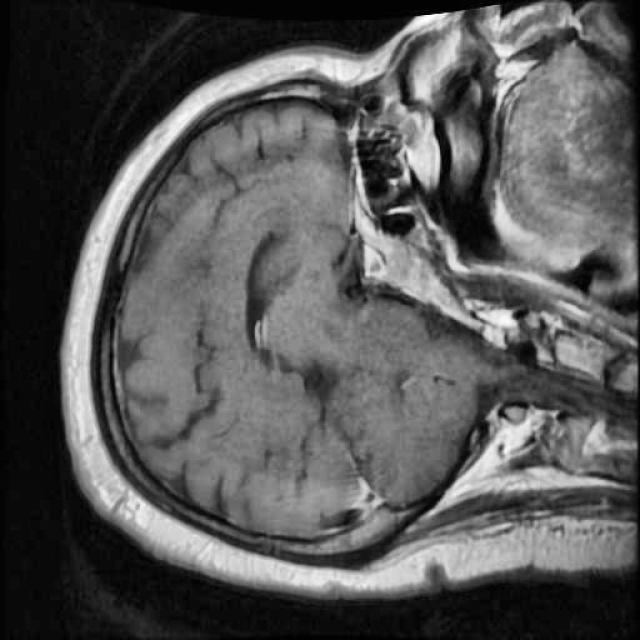Tumor: (344, 233, 401, 289)
